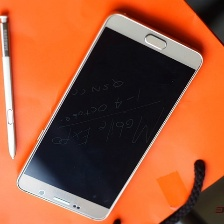phone: (15, 7, 207, 223)
